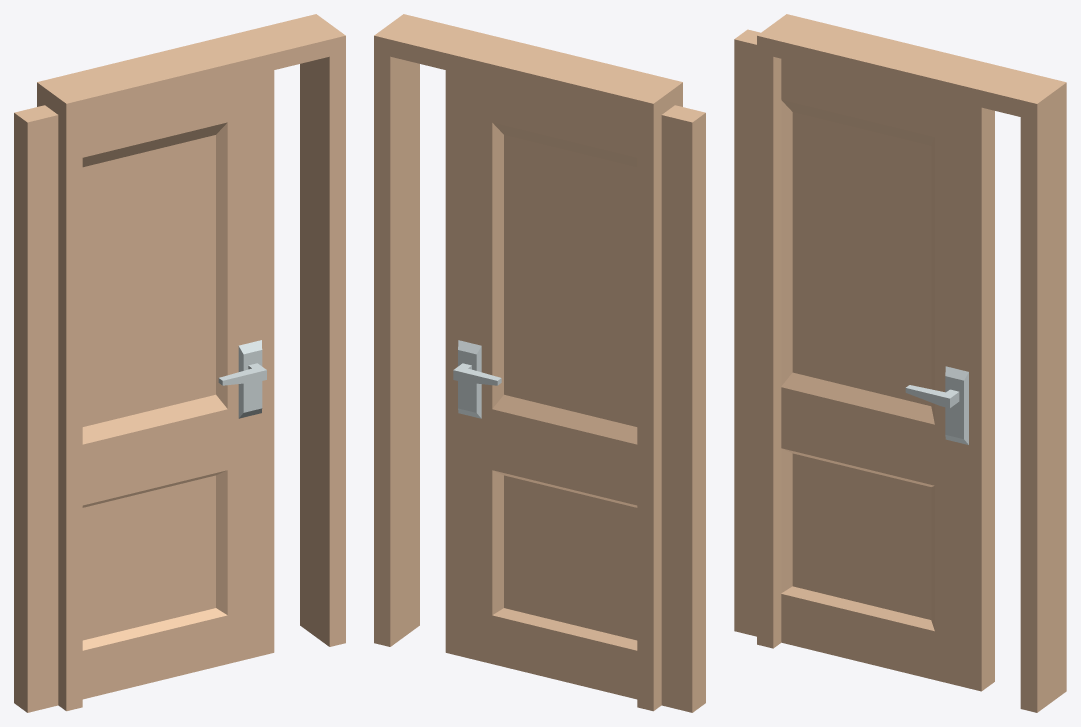
File: doorway.glb
The picture shows the model from 3 angles, left to right: view 1: azimuth 30°, elevation 25°; view 2: azimuth 150°, elevation 25°; view 3: azimuth 330°, elevation 25°; orthographic projection.
Parts seen in each view (by area): view 1: doorway.001, doorway; view 2: doorway.001, doorway; view 3: doorway.001, doorway.
Boxes of the visible parts, x1,y1,x2,y2 form: doorway.001: [14, 70, 274, 712]; doorway: [37, 14, 345, 711]; doorway.001: [445, 70, 705, 712]; doorway: [374, 14, 682, 711]; doorway.001: [734, 29, 994, 691]; doorway: [757, 14, 1066, 712].
Size of the model in its own units: 1.57 by 2.93 by 0.3289.
